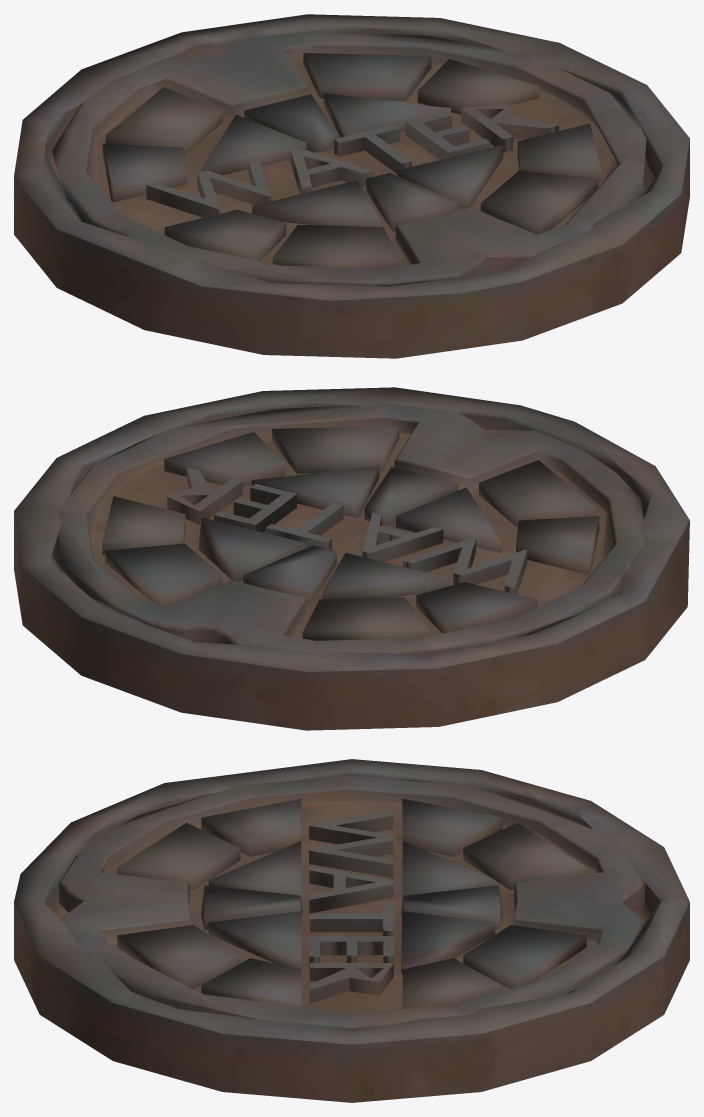
Rendered from water_manhole_cover.glb.
The picture shows the model from 3 angles, top to bottom: view 1: azimuth 30°, elevation 25°; view 2: azimuth 150°, elevation 25°; view 3: azimuth 270°, elevation 25°; orthographic projection.
Visible parts, largest first — view 1: water_manhole_cover_frame; view 2: water_manhole_cover_frame; view 3: water_manhole_cover_frame.
Part boxes in pixels (x1,y1,x2,y2): water_manhole_cover_frame: (14, 14, 689, 358); water_manhole_cover_frame: (14, 387, 689, 730); water_manhole_cover_frame: (14, 759, 689, 1102).
Bounding box in the file's own units: 0.6908 × 0.0676 × 0.6908.
1 material, 1 textured.
